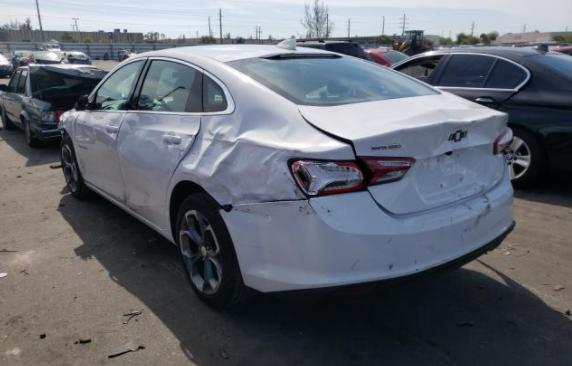Back-bumper: (219, 159, 516, 293)
Back-door: (116, 57, 203, 229)
Back-wheel: (177, 191, 257, 311)
Back-window: (136, 60, 228, 112)
Back-windshield: (221, 55, 458, 107)
Fender: (57, 109, 82, 148)
Front-door: (74, 57, 148, 203)
Front-wheel: (61, 133, 90, 199)
Front-window: (94, 60, 144, 110)
Mirror: (76, 95, 95, 110)
Quarter-panel: (163, 105, 355, 236)
Rocker-panel: (78, 170, 175, 245)
Roof: (127, 38, 346, 62)
Tail-light: (291, 156, 416, 196), (494, 129, 513, 155)
Trunk: (298, 94, 513, 215)
